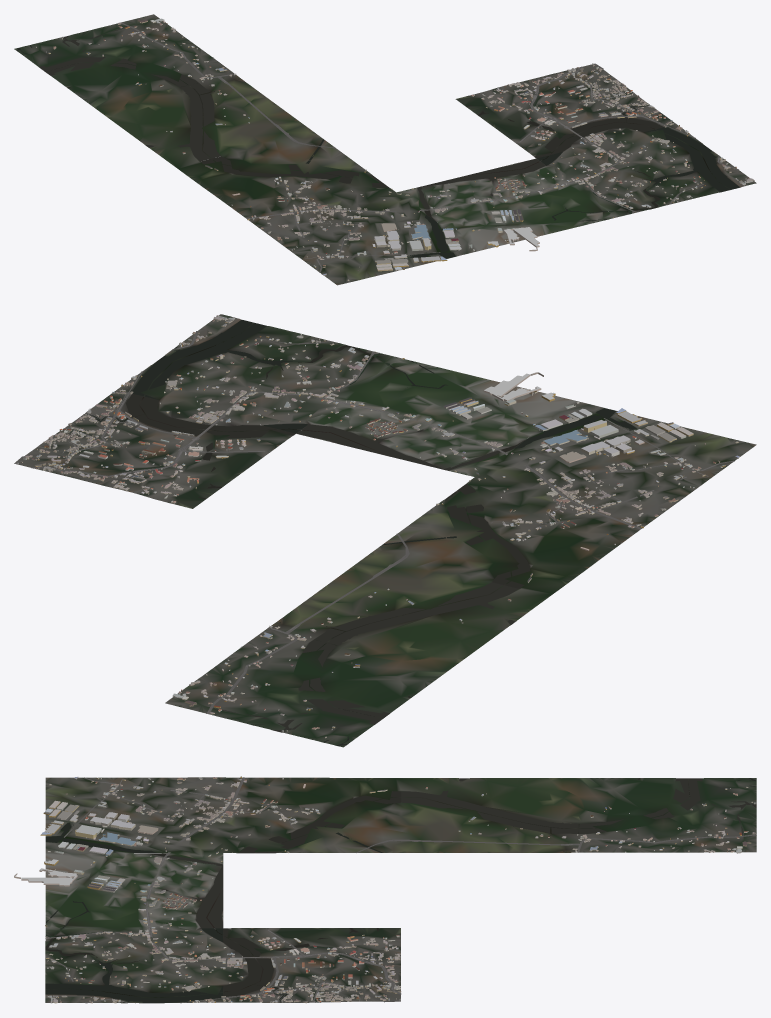
The picture shows the model from 3 angles, top to bottom: view 1: azimuth 30°, elevation 25°; view 2: azimuth 150°, elevation 25°; view 3: azimuth 270°, elevation 25°; orthographic projection. The views are drawn at different scales.
Parts seen in each view (by area): view 1: ground, buildings, water, roads; view 2: ground, buildings, water, roads; view 3: ground, buildings, water, roads.
Boxes of the visible parts, bbox=[...] form: ground: bbox=[14, 14, 756, 285]; buildings: bbox=[36, 18, 754, 280]; water: bbox=[17, 28, 739, 258]; roads: bbox=[120, 22, 738, 272]; ground: bbox=[14, 314, 756, 747]; buildings: bbox=[17, 315, 739, 738]; water: bbox=[87, 319, 636, 745]; roads: bbox=[14, 331, 734, 713]; ground: bbox=[45, 777, 756, 1003]; buildings: bbox=[14, 776, 755, 1003]; water: bbox=[45, 778, 756, 1003]; roads: bbox=[45, 777, 756, 1003].
Size of the model in its own units: 4215 by 44.67 by 5854.
